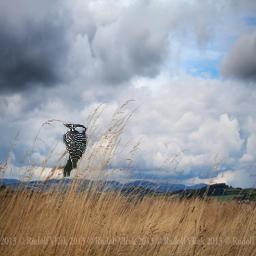Woodpecker: (62, 123, 89, 178)
